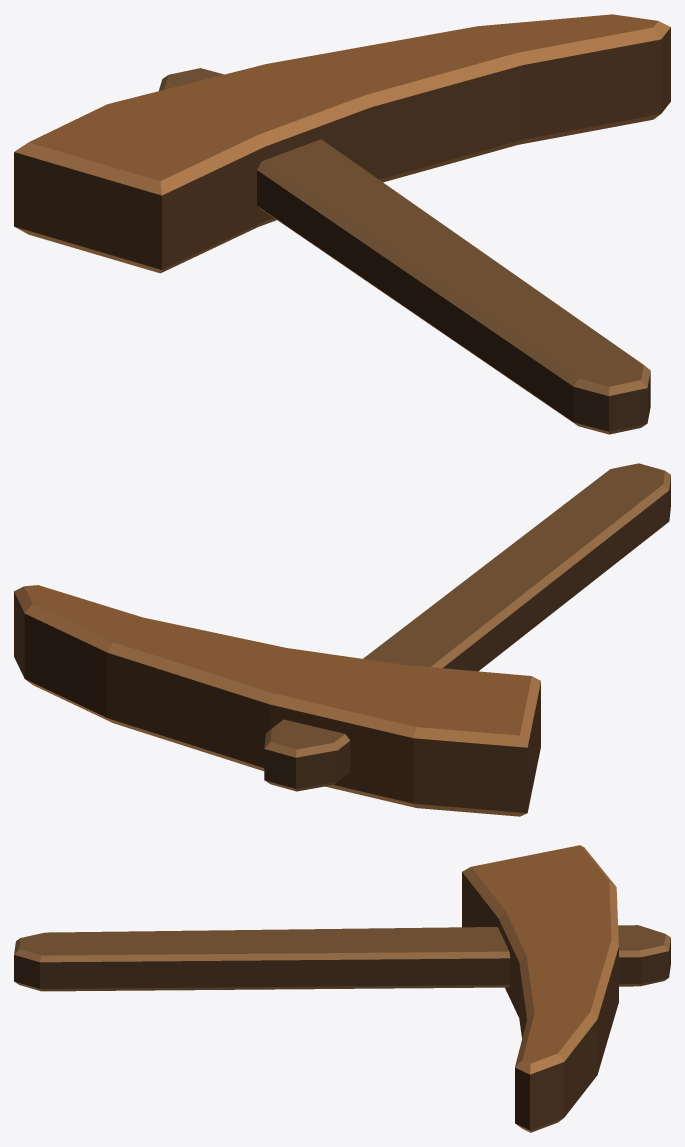
The model's file is wood_pickaxe.fbx.
3 renders of one model, top to bottom at view 1: azimuth 30°, elevation 25°; view 2: azimuth 150°, elevation 25°; view 3: azimuth 270°, elevation 25°, orthographic. The views are drawn at different scales.
Parts seen in each view (by area): view 1: wood_pickaxe; view 2: wood_pickaxe; view 3: wood_pickaxe.
Boxes of the visible parts, x1=… form: wood_pickaxe: x1=14, y1=14, x2=670, y2=434; wood_pickaxe: x1=14, y1=463, x2=670, y2=816; wood_pickaxe: x1=14, y1=845, x2=670, y2=1132.
Size of the model in its own units: 1.9 by 0.27 by 2.32.
1 material, 1 textured.
